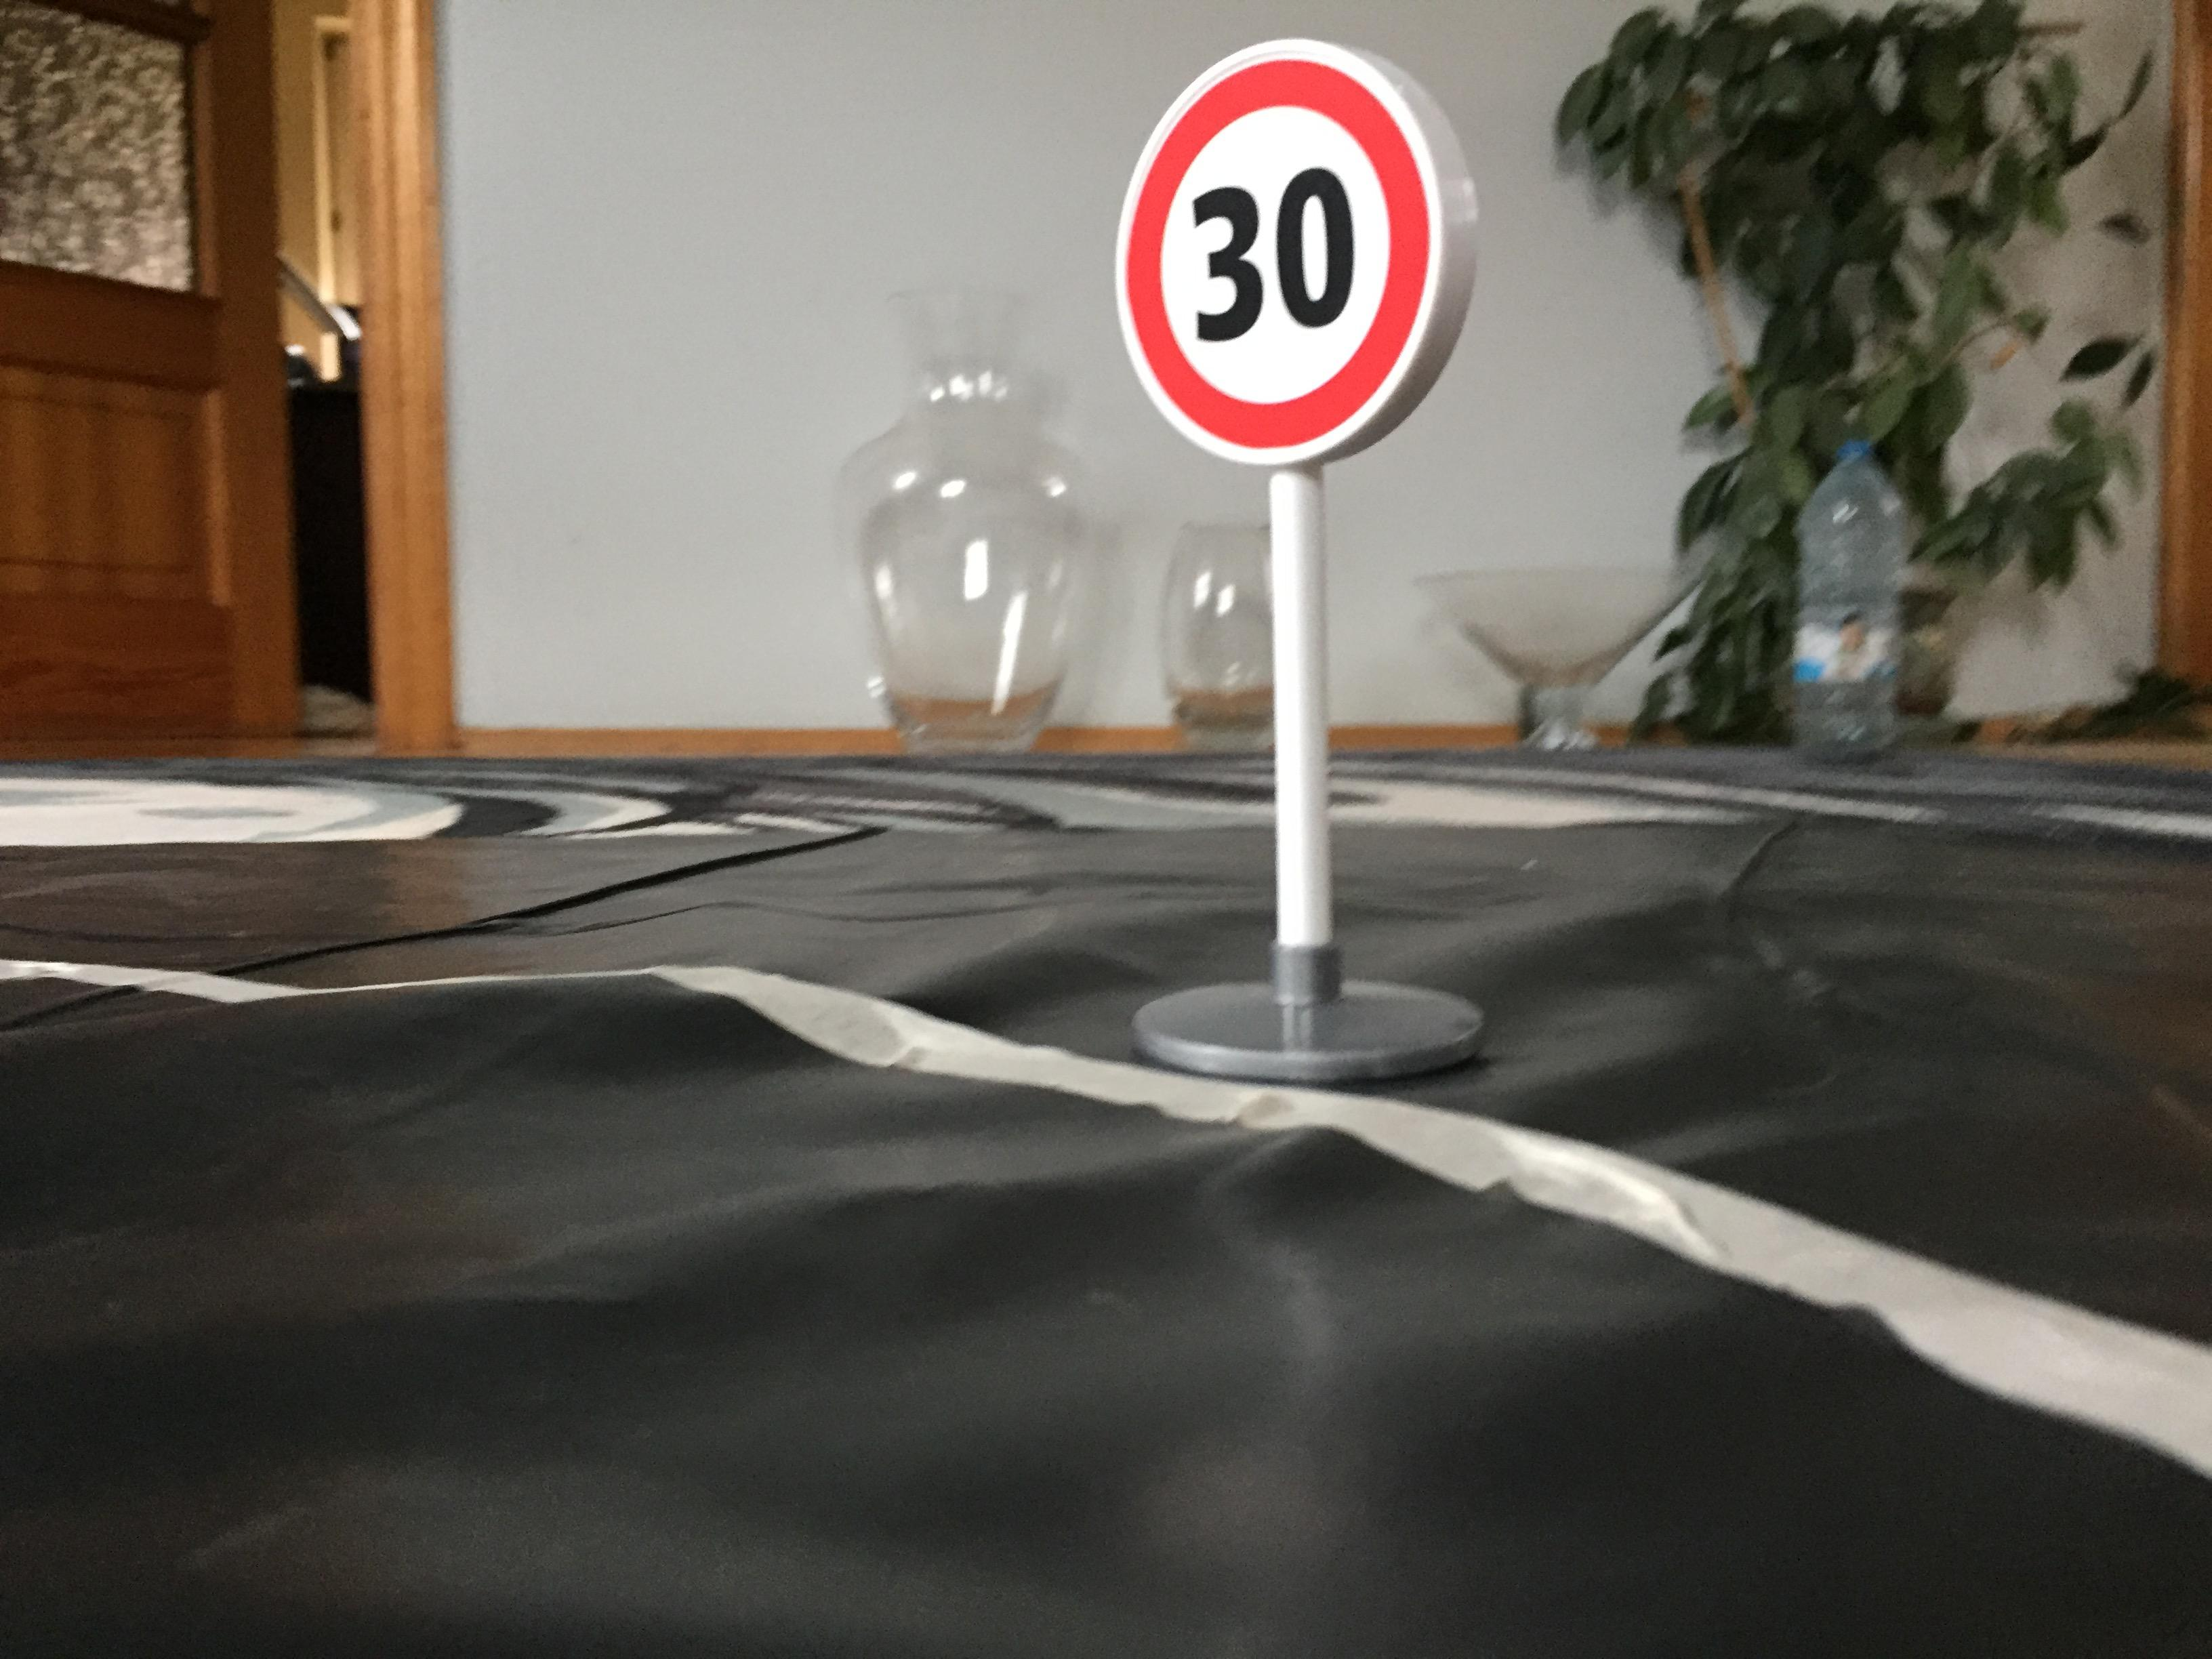speed: (1106, 26, 1493, 483)
